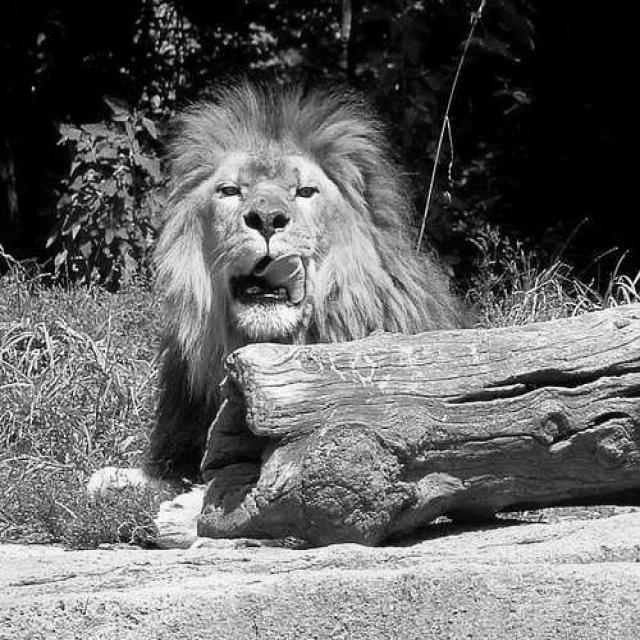Lion: (150, 55, 469, 484)
